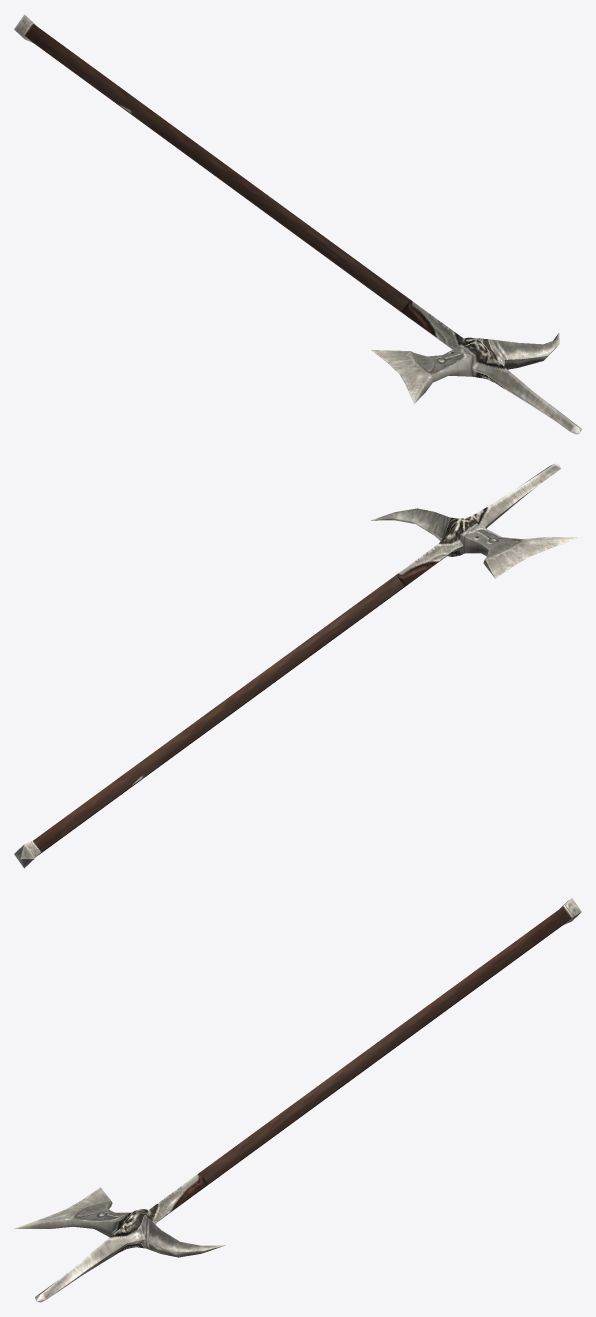
3 renders of one model, top to bottom at view 1: azimuth 30°, elevation 25°; view 2: azimuth 150°, elevation 25°; view 3: azimuth 330°, elevation 25°, orthographic. The views are drawn at different scales.
Parts seen in each view (by area): view 1: i008001-; view 2: i008001-; view 3: i008001-.
Part boxes in pixels (x1,y1,x2,y2): i008001-: (14, 14, 581, 434); i008001-: (14, 463, 581, 868); i008001-: (14, 897, 581, 1302).
Bounding box in the file's own units: 51.87 × 10.44 × 275.
1 material, 1 textured.
